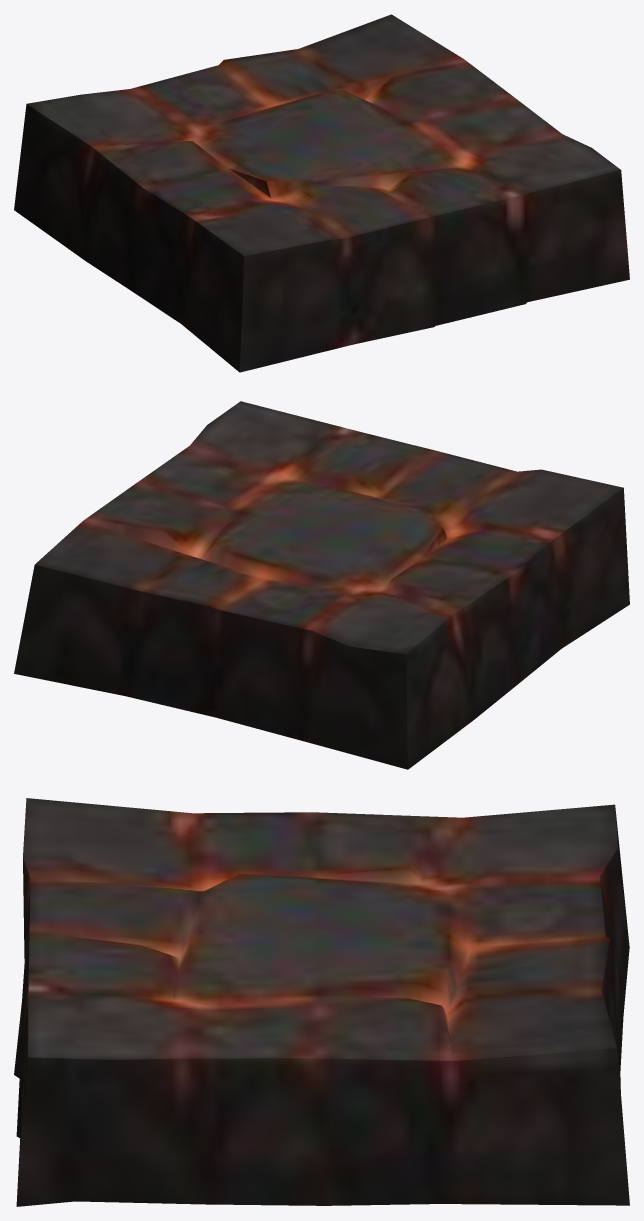
Rendered from b_braises_sol_1_lod1.glb.
3 views of the same model, one above another, from view 1: azimuth 30°, elevation 25°; view 2: azimuth 150°, elevation 25°; view 3: azimuth 270°, elevation 25° (orthographic). The views are drawn at different scales.
Parts seen in each view (by area): view 1: geometry_0; view 2: geometry_0; view 3: geometry_0.
Part boxes in pixels (x1,y1,x2,y2): geometry_0: [14, 14, 629, 372]; geometry_0: [14, 401, 629, 769]; geometry_0: [14, 798, 629, 1206].
Bounding box in the file's own units: 1 × 0.2838 × 1.
1 material, 1 textured.
